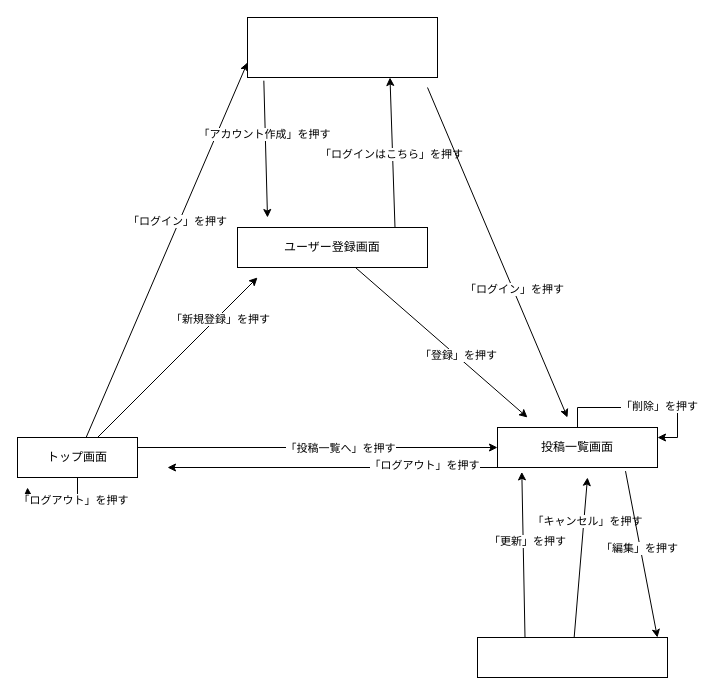
The diagram is 715 pixels wide and 695 high, and some of its shapes have lost their labels. The shapes that lost their labels are listed below. From the top down, each one's centre as x and y in pixels, then its label:
At pixel 342 47: "ログイン画面".
At pixel 572 657: "投稿編集画面".
